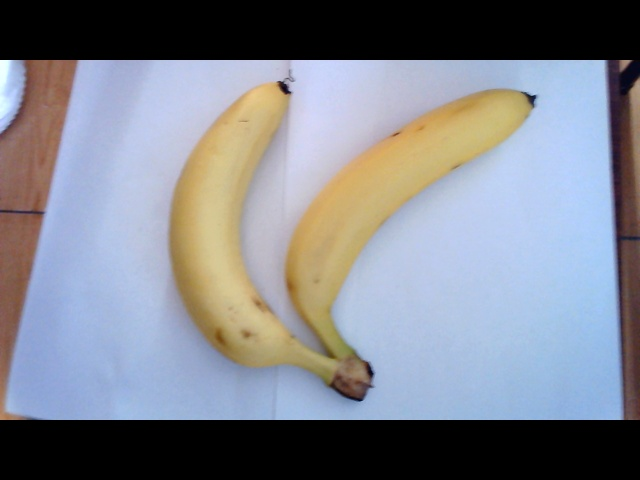banana: (286, 84, 529, 365), (173, 84, 288, 390)
